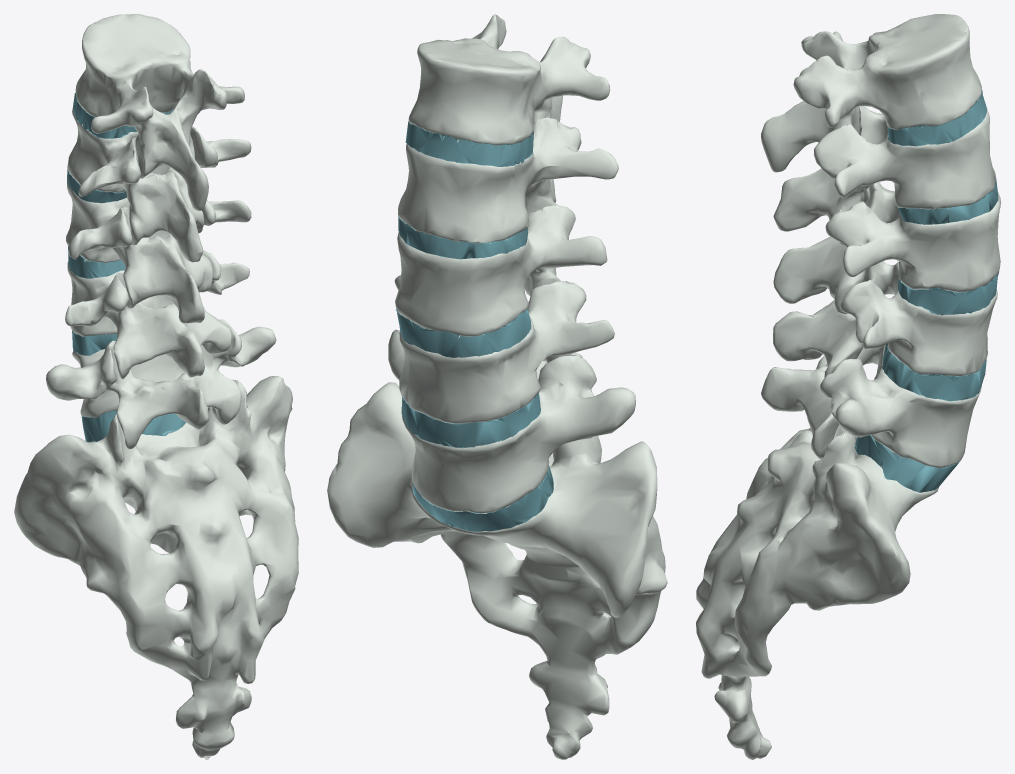
File: lumbar.glb
3 renders of one model, left to right at view 1: azimuth 30°, elevation 25°; view 2: azimuth 150°, elevation 25°; view 3: azimuth 270°, elevation 25°, orthographic. The views are drawn at different scales.
Visible parts, largest first — view 1: sacrum, L1, L5, L4, L3, L2, disc_L5, disc_L3, disc_L1, disc_L4, disc_L2; view 2: sacrum, L1, L5, L2, L3, L4, disc_L4, disc_L3, disc_L1, disc_L5, disc_L2; view 3: sacrum, L1, L3, L2, L4, L5, disc_L4, disc_L5, disc_L3, disc_L1, disc_L2.
Boxes of the visible parts, bbox=[...] form: sacrum: bbox=[14, 376, 298, 759]; L1: bbox=[75, 14, 244, 210]; L5: bbox=[46, 319, 276, 449]; L4: bbox=[65, 250, 249, 379]; L3: bbox=[66, 177, 251, 323]; L2: bbox=[67, 108, 251, 262]; disc_L5: bbox=[81, 410, 185, 442]; disc_L3: bbox=[68, 246, 125, 278]; disc_L1: bbox=[73, 92, 173, 138]; disc_L4: bbox=[72, 330, 117, 356]; disc_L2: bbox=[67, 170, 126, 203]; sacrum: bbox=[327, 382, 667, 759]; L1: bbox=[408, 14, 610, 145]; L5: bbox=[388, 329, 635, 513]; L2: bbox=[398, 117, 618, 243]; L3: bbox=[395, 205, 607, 336]; L4: bbox=[394, 275, 614, 423]; disc_L4: bbox=[401, 393, 540, 448]; disc_L3: bbox=[395, 308, 531, 357]; disc_L1: bbox=[405, 121, 533, 166]; disc_L5: bbox=[412, 466, 553, 531]; disc_L2: bbox=[398, 216, 528, 259]; sacrum: bbox=[696, 355, 938, 759]; L1: bbox=[761, 14, 981, 172]; L3: bbox=[773, 182, 1000, 314]; L2: bbox=[773, 106, 995, 245]; L4: bbox=[773, 261, 997, 377]; L5: bbox=[761, 345, 981, 468]; disc_L4: bbox=[882, 343, 986, 401]; disc_L5: bbox=[854, 435, 959, 492]; disc_L3: bbox=[897, 261, 999, 315]; disc_L1: bbox=[888, 90, 986, 146]; disc_L2: bbox=[898, 178, 998, 224].
Size of the model in its own units: 0.1224 by 0.2938 by 0.111.
